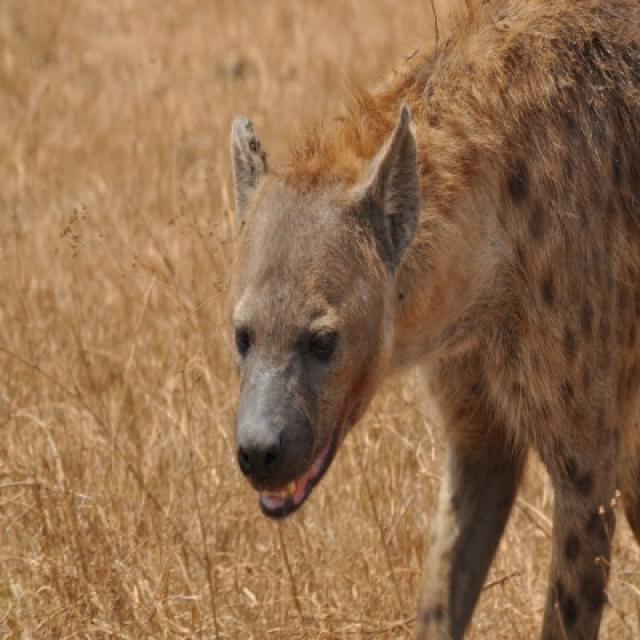hyena: (230, 0, 638, 638)
